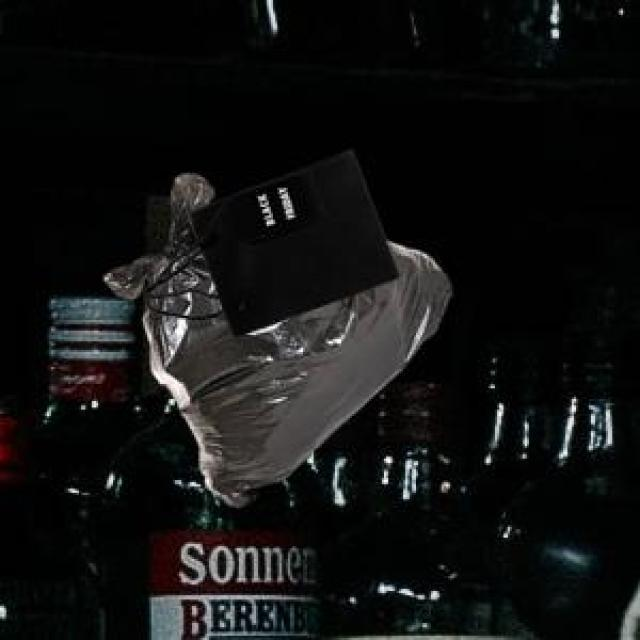miscellaneous trash: (100, 169, 448, 504)
paper: (141, 147, 395, 333)
